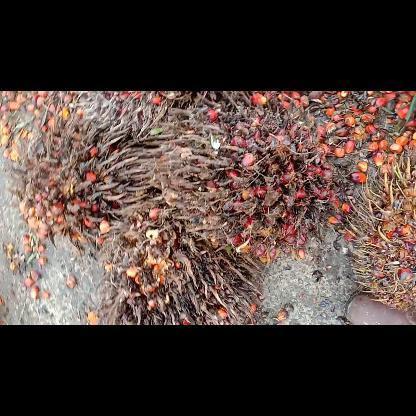Terlalu masak: (138, 96, 342, 270), (16, 103, 166, 253), (96, 196, 266, 324)
